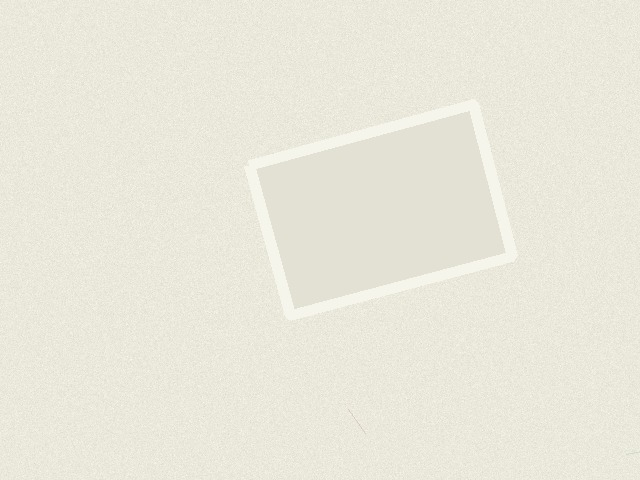parking_area: (249, 104, 512, 315)
